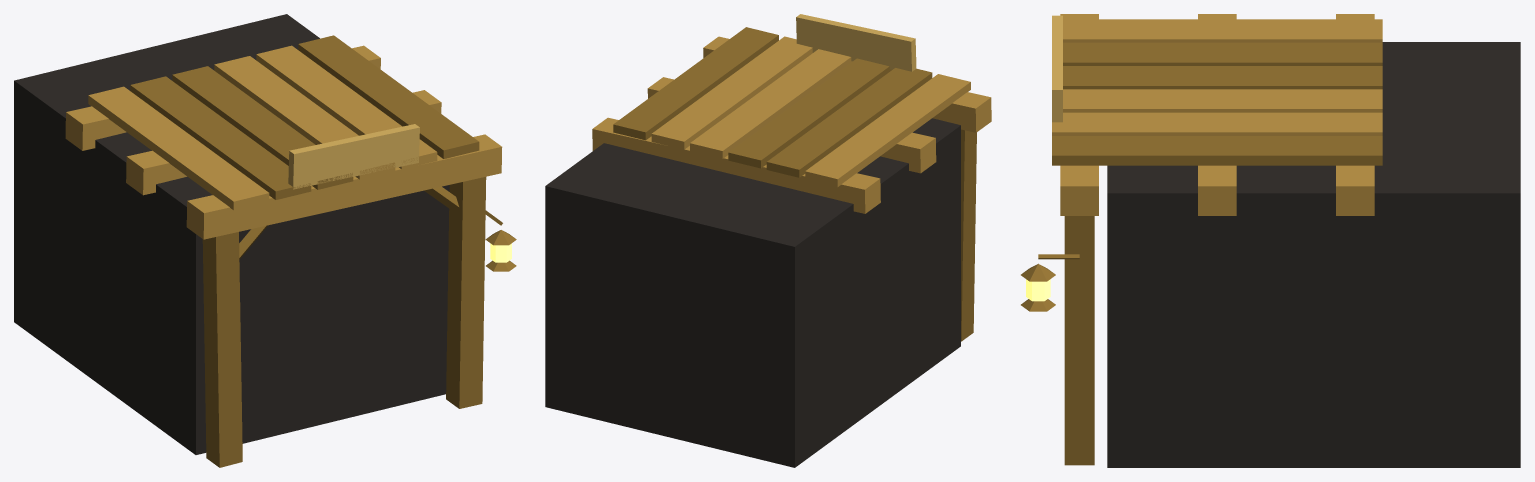
File: mine_entrance.glb
The picture shows the model from 3 angles, left to right: view 1: azimuth 30°, elevation 25°; view 2: azimuth 150°, elevation 25°; view 3: azimuth 270°, elevation 25°; orthographic projection. The views are drawn at different scales.
Parts seen in each view (by area): view 1: mine dark, golden cap, golden prop, golden prop.001, roof lagging, roof lagging.005, roof lagging.001, name board, roof lagging.004, roof lagging.002, roof lagging.003, golden cap.002 (+1 smaller); view 2: mine dark, roof lagging, roof lagging.005, roof lagging.001, roof lagging.004, roof lagging.002, roof lagging.003, golden cap.002, name board, golden prop, golden cap, golden cap.001; view 3: mine dark, roof lagging.005, roof lagging.004, golden prop.001, roof lagging, roof lagging.001, roof lagging.002, roof lagging.003, golden cap.001, golden cap.002, golden cap, name board.
Part boxes in pixels (bbox=[...]): mine dark: bbox=[14, 14, 449, 454]; golden cap: bbox=[186, 134, 502, 239]; golden prop: bbox=[202, 232, 242, 467]; golden prop.001: bbox=[446, 177, 486, 408]; roof lagging: bbox=[88, 86, 269, 210]; roof lagging.005: bbox=[298, 35, 479, 158]; roof lagging.001: bbox=[130, 76, 311, 199]; name board: bbox=[288, 124, 419, 189]; roof lagging.004: bbox=[256, 45, 437, 169]; roof lagging.002: bbox=[172, 66, 353, 189]; roof lagging.003: bbox=[214, 56, 395, 179]; golden cap.002: bbox=[65, 45, 380, 150]; mine dark: bbox=[545, 118, 960, 467]; roof lagging: bbox=[805, 74, 970, 187]; roof lagging.005: bbox=[613, 27, 778, 140]; roof lagging.001: bbox=[766, 68, 932, 177]; roof lagging.004: bbox=[651, 36, 812, 149]; roof lagging.002: bbox=[728, 58, 891, 168]; roof lagging.003: bbox=[690, 49, 852, 158]; golden cap.002: bbox=[592, 117, 880, 213]; name board: bbox=[796, 14, 916, 71]; golden prop: bbox=[961, 129, 976, 341]; golden cap: bbox=[703, 36, 991, 132]; golden cap.001: bbox=[647, 77, 936, 173]; mine dark: bbox=[1107, 42, 1520, 467]; roof lagging.005: bbox=[1052, 136, 1382, 165]; roof lagging.004: bbox=[1052, 112, 1382, 135]; golden prop.001: bbox=[1064, 216, 1094, 465]; roof lagging: bbox=[1063, 19, 1382, 42]; roof lagging.001: bbox=[1063, 42, 1382, 65]; roof lagging.002: bbox=[1063, 66, 1382, 89]; roof lagging.003: bbox=[1063, 89, 1382, 112]; golden cap.001: bbox=[1198, 14, 1236, 215]; golden cap.002: bbox=[1336, 14, 1374, 215]; golden cap: bbox=[1060, 14, 1098, 215]; name board: bbox=[1052, 15, 1062, 122].
Bounding box in the file's own units: 1.43 × 1.37 × 1.82.
